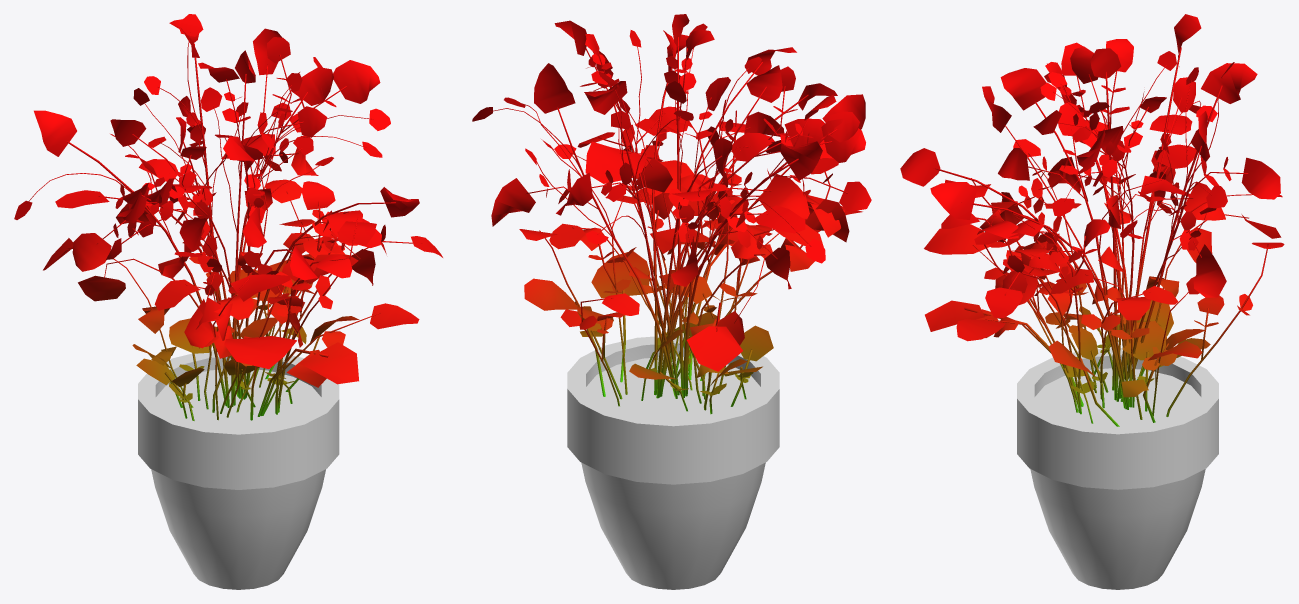
The model's file is SM_Corianderpot_3.fbx.
3 views of the same model, side by side, from view 1: azimuth 30°, elevation 25°; view 2: azimuth 150°, elevation 25°; view 3: azimuth 270°, elevation 25° (orthographic). The views are drawn at different scales.
Parts seen in each view (by area): view 1: Coriander1, Pot4; view 2: Coriander1, Pot4; view 3: Coriander1, Pot4.
Boxes of the visible parts, x1,y1,x2,y2 form: Coriander1: [14, 14, 442, 420]; Pot4: [138, 350, 339, 589]; Coriander1: [472, 14, 871, 414]; Pot4: [567, 335, 779, 589]; Coriander1: [900, 14, 1284, 426]; Pot4: [1017, 348, 1218, 589].
Size of the model in its own units: 37.08 by 54.6 by 36.31.
